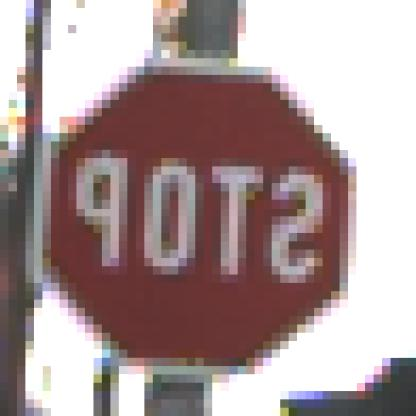stop: (13, 55, 373, 391)
